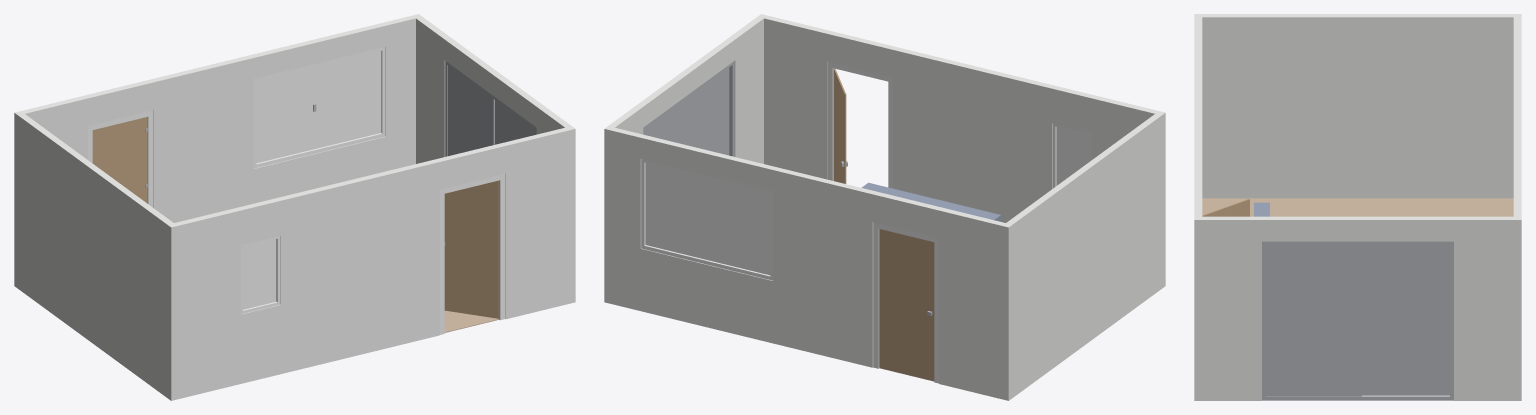
The model's file is openings.glb.
3 renders of one model, left to right at view 1: azimuth 30°, elevation 25°; view 2: azimuth 150°, elevation 25°; view 3: azimuth 270°, elevation 25°, orthographic. The views are drawn at different scales.
Visible parts, largest first — view 1: wall_3_1, wall_2_4, wall_0_3, wall_2_1, wall_2_6, Porte_Chambre_2, Fenetre_Salon_3, Fenetre_Salon_2, wall_0_4, wall_0_6, wall_1_1, Porte_Cuisine_2 (+17 smaller); view 2: wall_3_1, wall_2_4, wall_0_3, wall_0_1, wall_2_6, wall_0_4, Porte_Cuisine_2, wall_0_6, Fenetre_Salon_3, Fenetre_Salon_2, wall_1_3, wall_0_5 (+15 smaller); view 3: wall_3_1, Baie_Salon_3, Baie_Salon_2, wall_1_3, wall_1_1, room_0_1, wall_1_2, Baie_Salon_1, wall_2_6, wall_0_6, wall_2_4, wall_0_5 (+6 smaller).
Part boxes in pixels (x1,y1,x2,y2): wall_3_1: (14,111,177,399); wall_2_4: (277,159,439,373); wall_0_3: (150,55,253,222); wall_2_1: (167,208,240,400); wall_2_6: (502,126,575,319); Porte_Chambre_2: (444,180,498,318); Fenetre_Salon_3: (318,51,381,147); Fenetre_Salon_2: (256,66,318,163); wall_0_4: (253,136,385,203); wall_0_6: (383,14,421,171); wall_1_1: (414,14,450,163); Porte_Cuisine_2: (92,117,147,203); wall_3_1: (1002,111,1165,400); wall_2_4: (893,47,1055,222); wall_0_3: (773,167,876,367); wall_0_1: (939,208,1012,400); wall_2_6: (758,14,830,179); wall_0_4: (640,248,773,343); Porte_Cuisine_2: (879,229,934,380); wall_0_6: (604,126,643,310); Fenetre_Salon_3: (645,163,708,260); Fenetre_Salon_2: (708,178,770,275); wall_1_3: (729,14,766,163); wall_0_5: (640,135,776,190); wall_3_1: (1195,14,1520,198); Baie_Salon_3: (1266,245,1361,396); Baie_Salon_2: (1362,245,1449,395); wall_1_3: (1194,216,1261,400); wall_1_1: (1454,216,1521,400); room_0_1: (1202,198,1513,216); wall_1_2: (1262,216,1453,241); Baie_Salon_1: (1262,241,1453,400); wall_2_6: (1194,184,1202,400); wall_0_6: (1513,201,1521,400); wall_2_4: (1194,69,1202,150); wall_0_5: (1513,134,1521,201).
Bounding box in the file's own units: 610 × 251 × 410.
